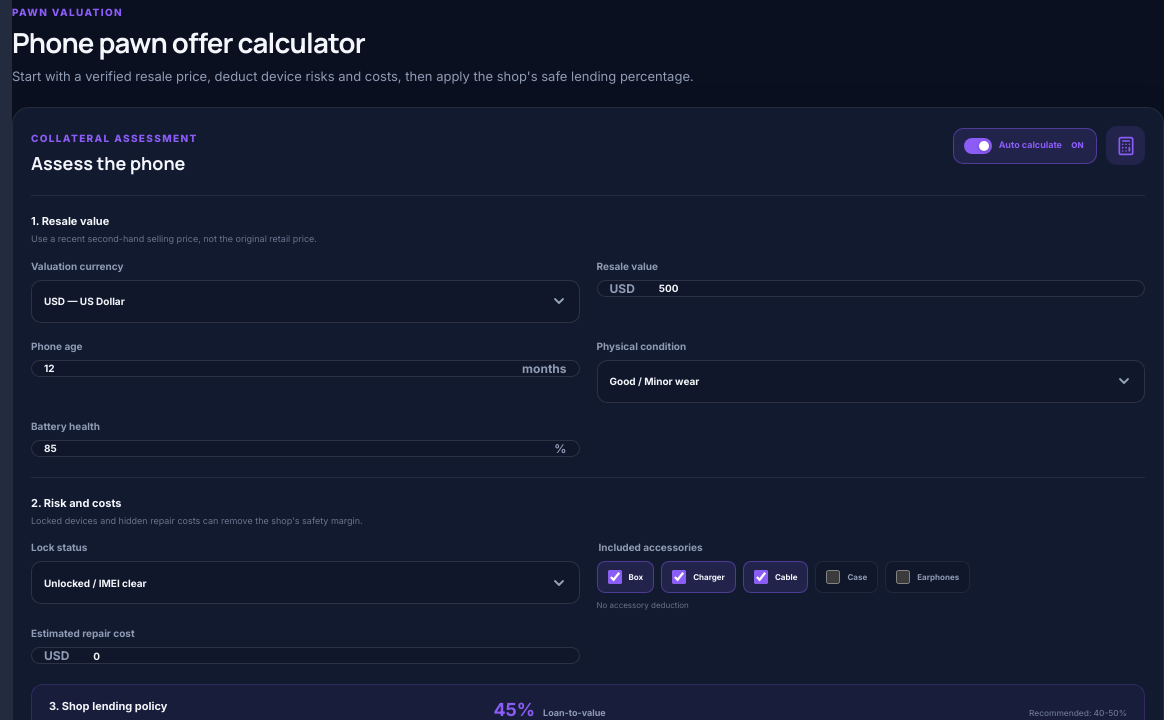
Scenario: DepreciationPage feature integration › converts amounts between USD and KHR following 100-KHR rounding rules
Select "KHR — Cambodian Riel" in the dropdown labelled "Valuation currency" at (305, 301), box [31, 280, 580, 323]
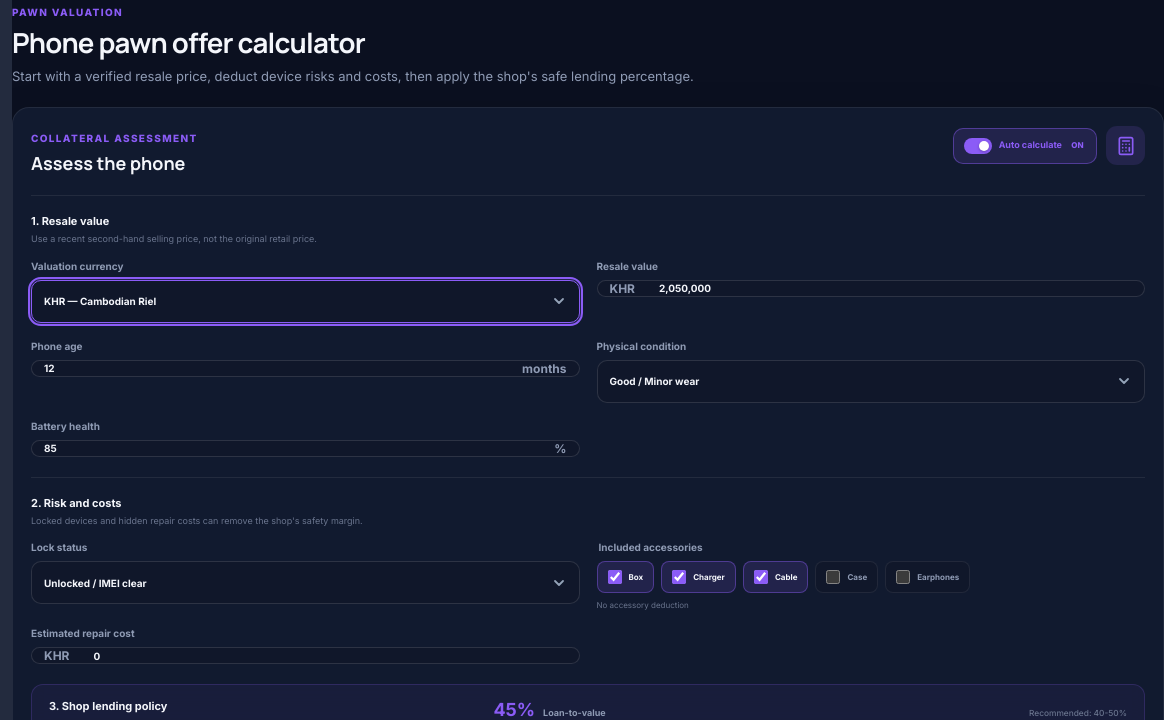
Select "USD — US Dollar" in the dropdown labelled "Valuation currency" at (305, 301), box [31, 280, 580, 323]
(page scrolled)
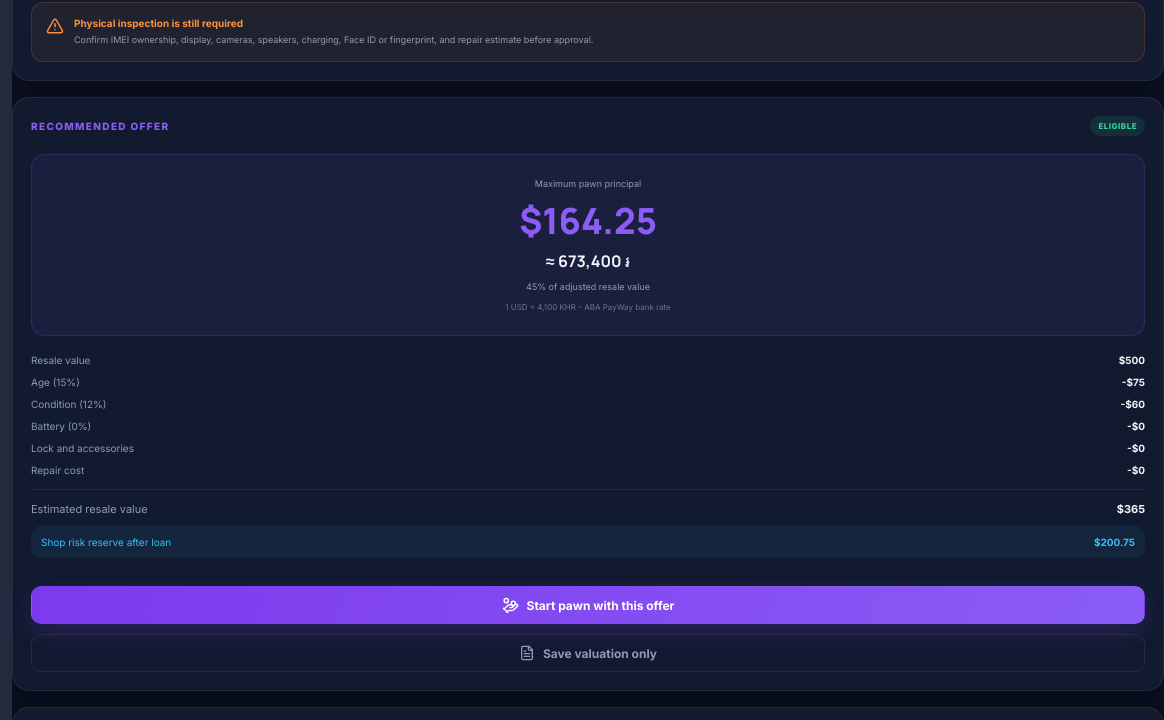
Expected: the text "$500" is shown, [1119, 354, 1145, 366]
